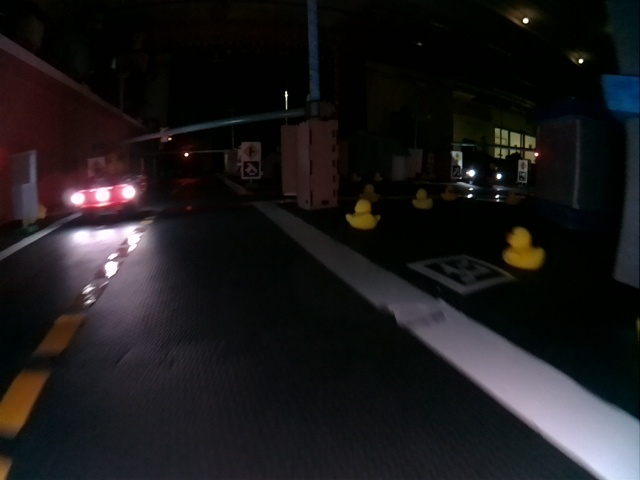Duckie: (503, 228, 541, 268), (348, 200, 375, 230), (360, 184, 380, 203), (416, 189, 433, 209), (107, 155, 123, 174), (440, 185, 456, 201), (373, 173, 383, 183), (351, 173, 361, 183)
Duckiebot: (71, 174, 145, 213)
Intersection sign: (243, 143, 260, 160)
QR code: (411, 257, 504, 293), (242, 161, 260, 178), (452, 166, 462, 178), (518, 171, 527, 182)
Signal sign: (452, 154, 462, 164)
